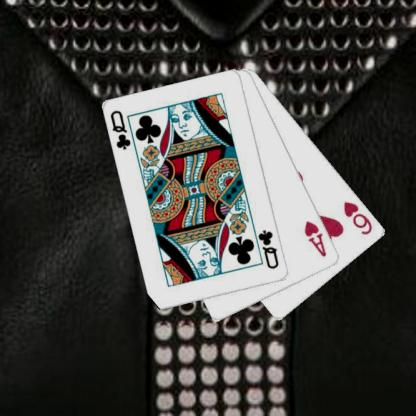6H: (341, 199, 374, 236)
AH: (302, 218, 328, 259)
QC: (108, 108, 132, 151), (256, 228, 280, 270)
